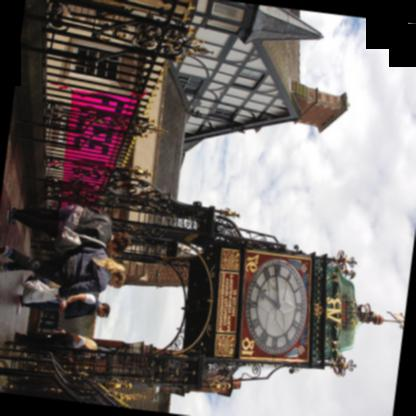handbag: (53, 225, 105, 254), (22, 279, 58, 304), (50, 329, 58, 335)
